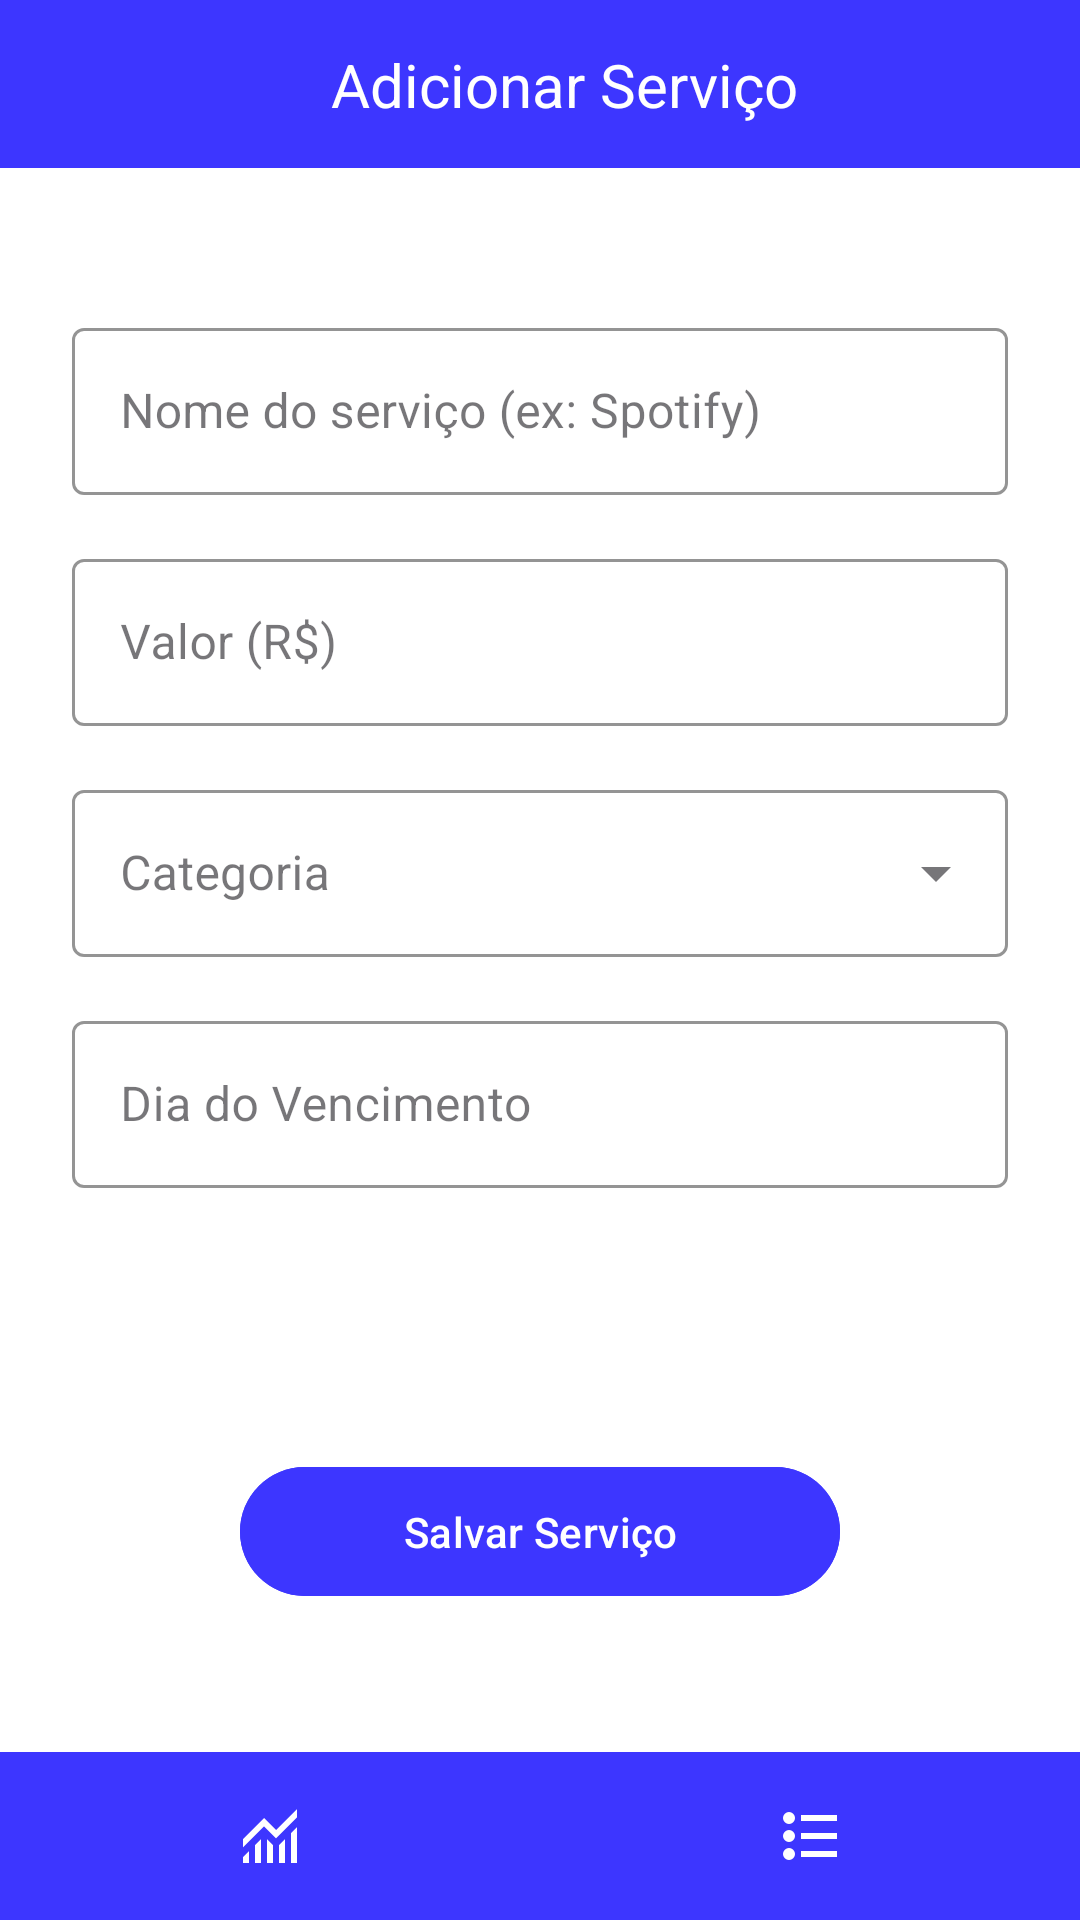

Icons on this 1080*1920 Android screen, each with its box as (x1, y1, x2, y2):
list: (783, 1812, 837, 1860)
statistics: (243, 1809, 297, 1863)
